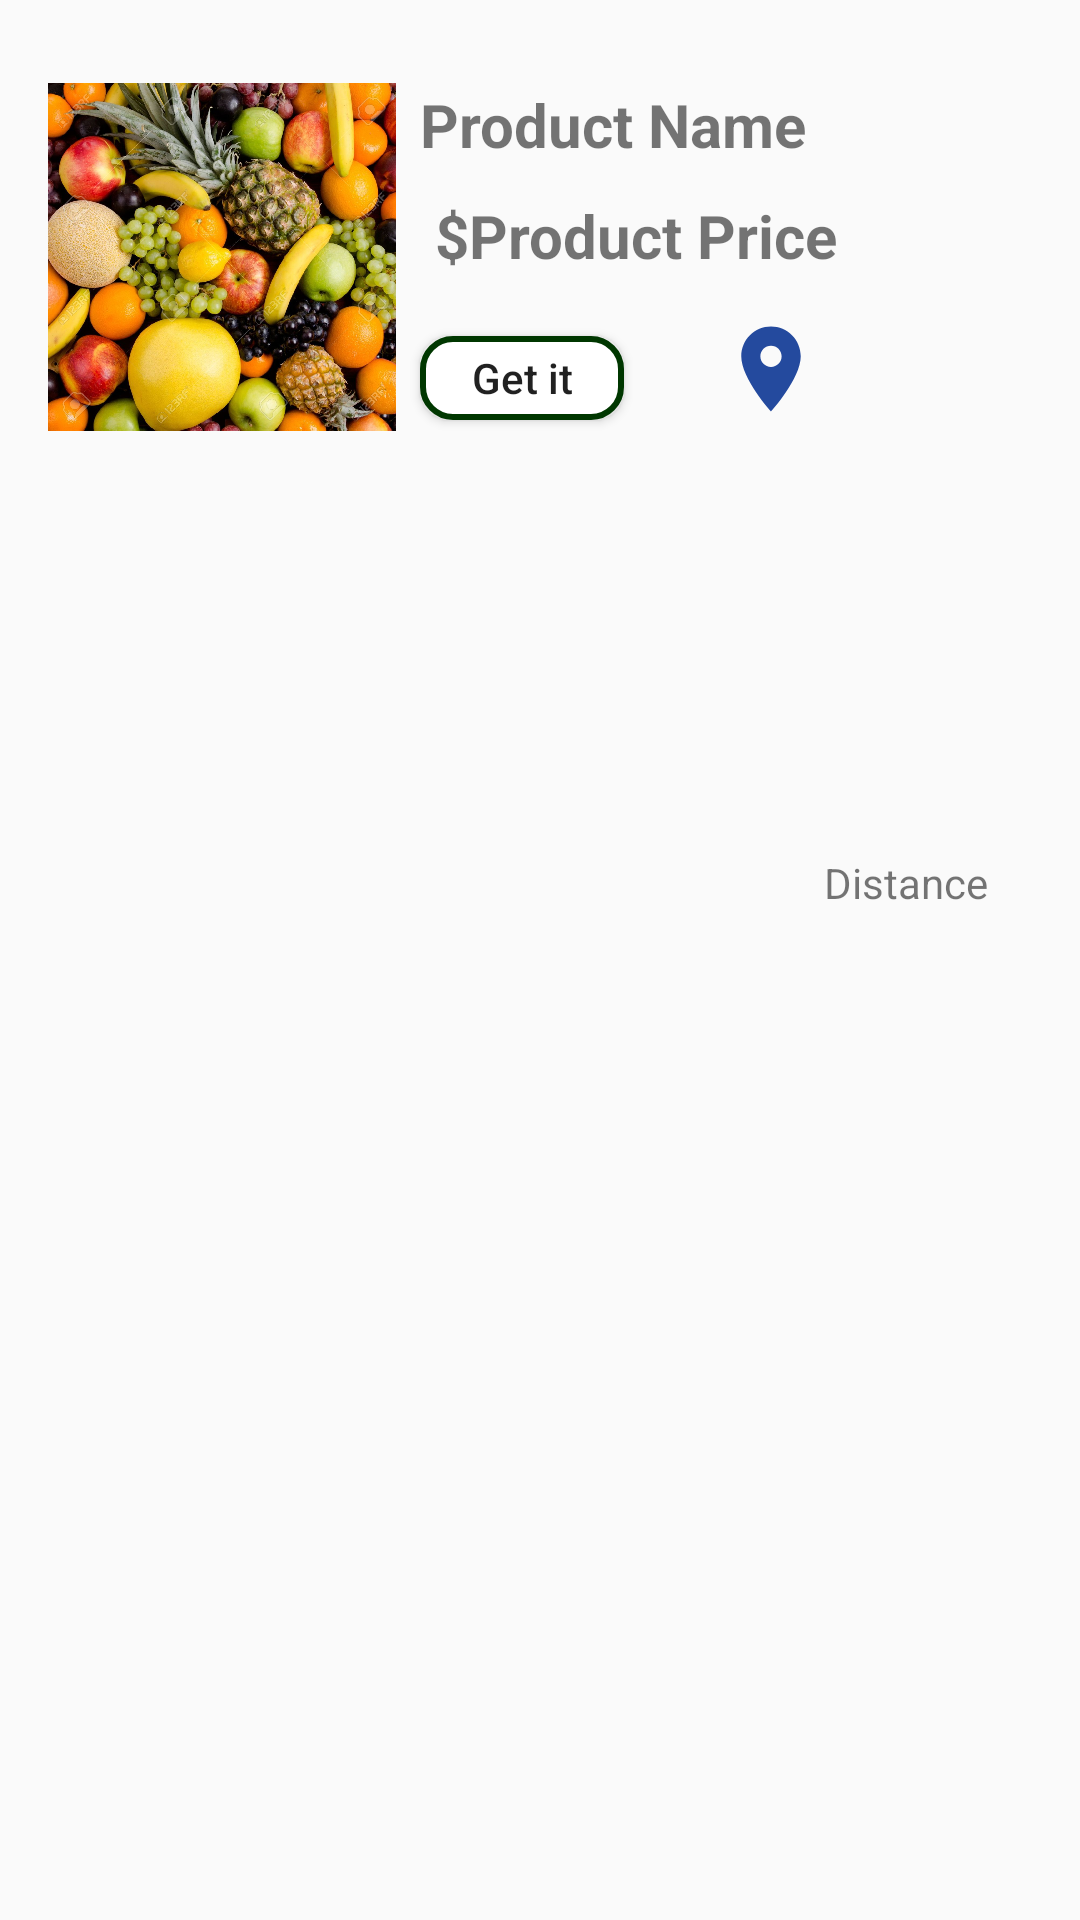

Named icons in this screenshot (1080 × 1920) and their bounding boxes, (x1, y1, x2, y2):
location on: (741, 326, 801, 412)
